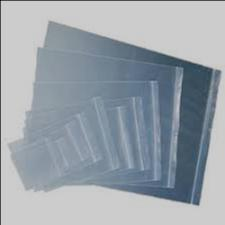Plastic: (19, 20, 222, 207), (18, 46, 183, 189), (19, 79, 160, 184), (21, 96, 150, 176), (19, 95, 121, 180), (16, 117, 89, 191), (9, 140, 65, 195)
